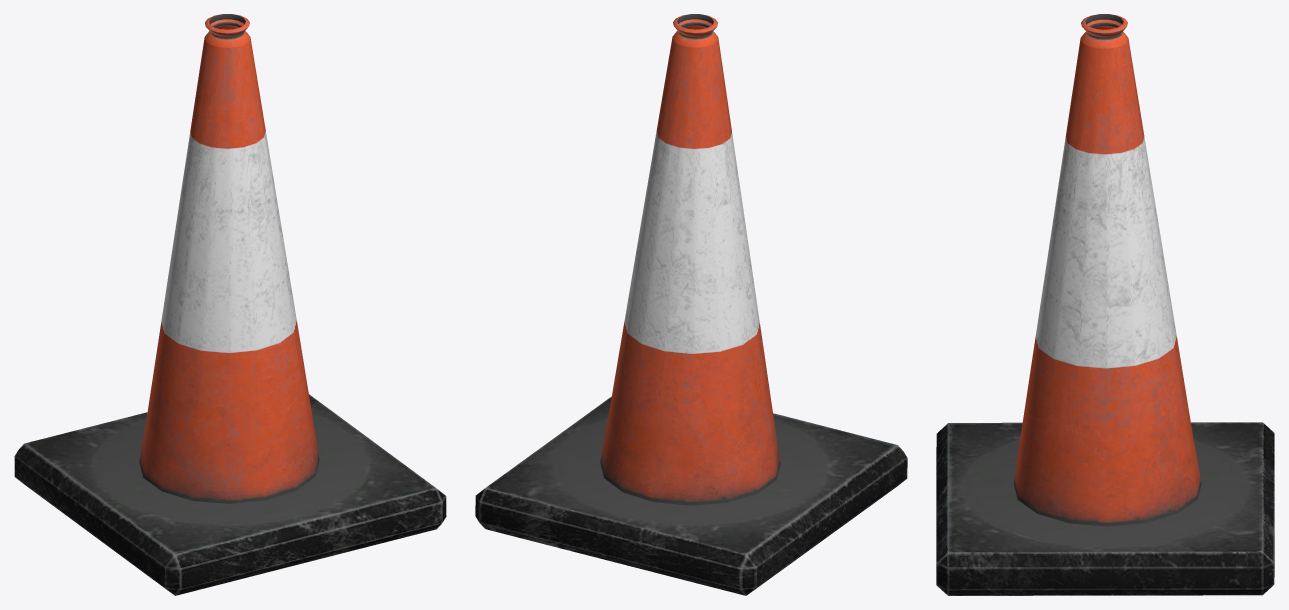
Rendered from konus.fbx.
3 renders of one model, left to right at view 1: azimuth 30°, elevation 25°; view 2: azimuth 150°, elevation 25°; view 3: azimuth 270°, elevation 25°, orthographic. The views are drawn at different scales.
Parts seen in each view (by area): view 1: konus; view 2: konus; view 3: konus.
Part boxes in pixels (x1,y1,x2,y2): konus: [14, 14, 446, 595]; konus: [475, 14, 907, 595]; konus: [936, 14, 1274, 595].
Bounding box in the file's own units: 58.8 × 97.52 × 58.77.
